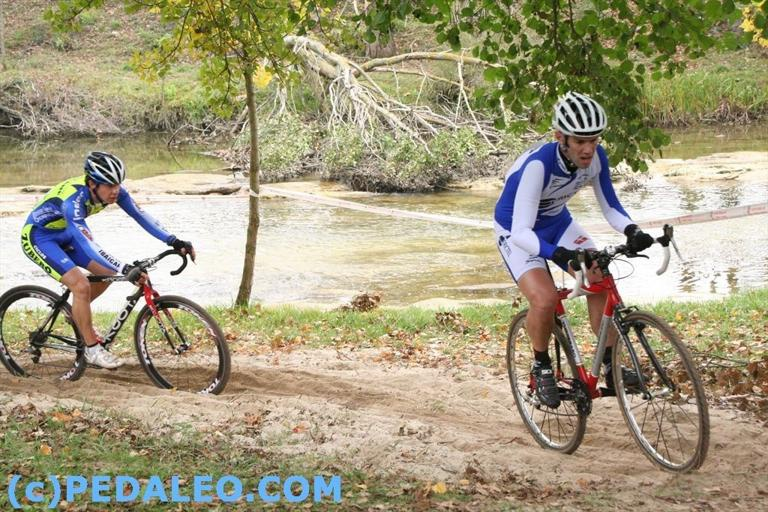non-vehicle: (502, 219, 711, 484), (0, 248, 231, 396)
